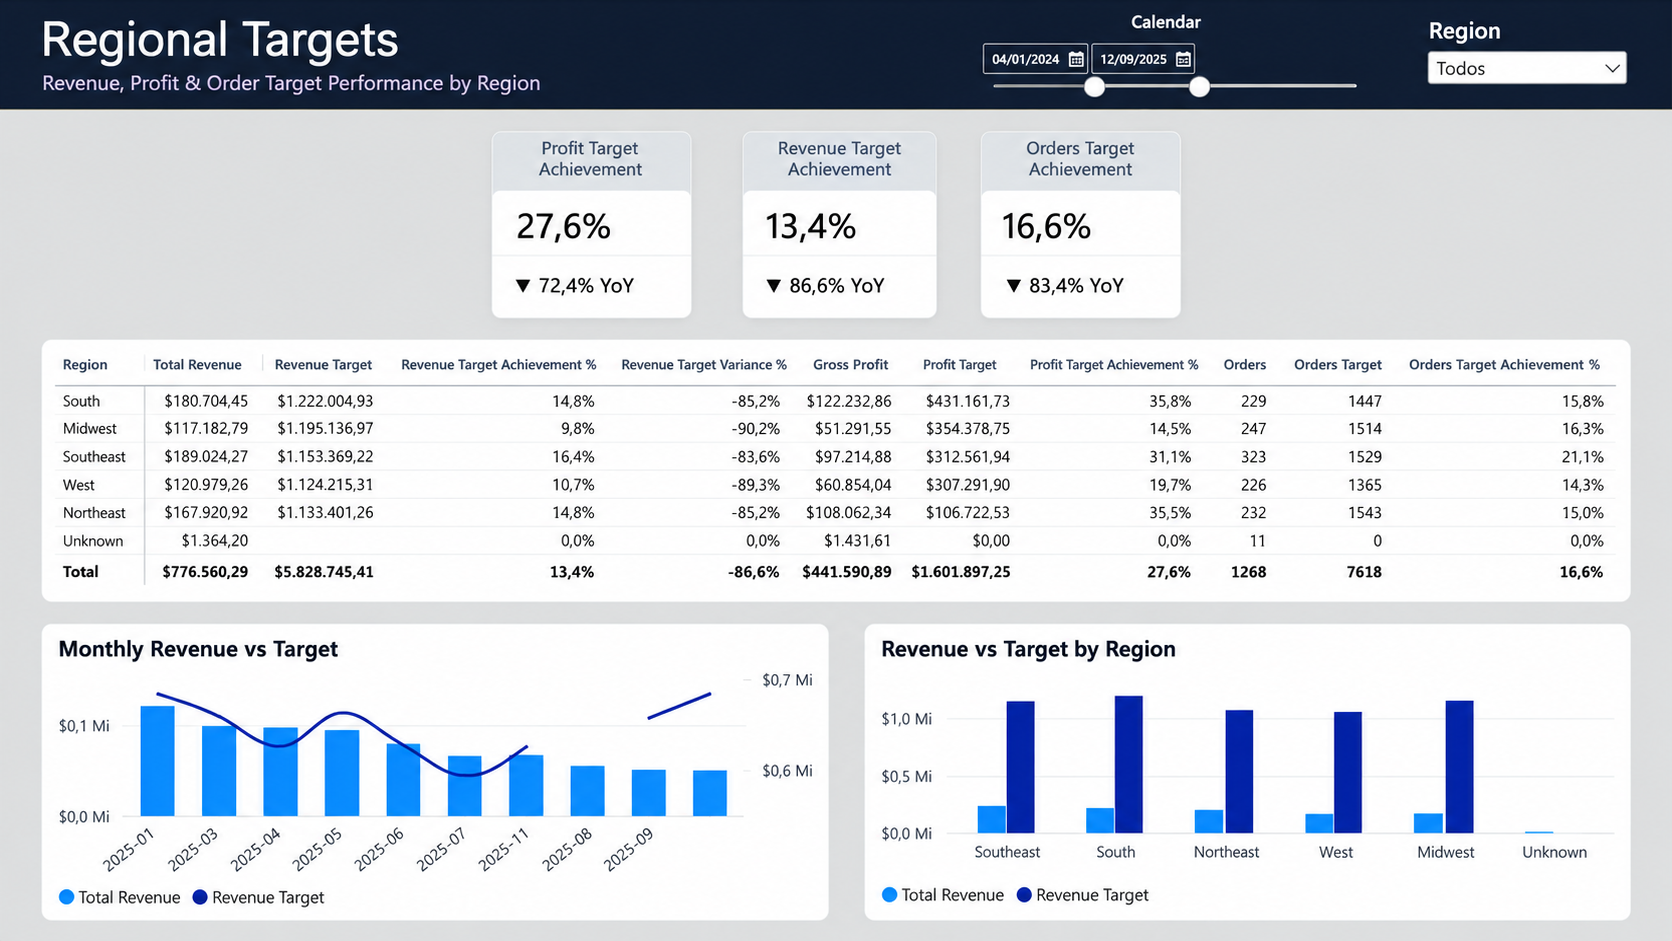

Layout of this report page (visuals, bound fields, positions):
{"tool":"powerbi","page":{"name":"Regional Targets","canvas":[1920,1080],"ordinal":5},"visuals":[{"type":"clusteredColumnChart","title":"Revenue vs Target by Region","fields":{"Category":["DimRegion.Region"],"Y":["_Measures.Total Revenue","_Measures.Revenue Target"]},"box":[1102.9,697.1,735.3,347.1],"z":0},{"type":"lineClusteredColumnComboChart","title":"Monthly Revenue vs Target","fields":{"Category":["DimData.Year-Month"],"Y":["_Measures.Total Revenue"],"Y2":["_Measures.Revenue Target"]},"box":[79.4,697.1,738.2,347.1],"z":1000},{"type":"pivotTable","fields":{"Rows":["DimRegion.Region"],"Values":["_Measures.Total Revenue","_Measures.Revenue Target","_Measures.Revenue Target Achievement %","_Measures.Revenue Target Variance %","_Measures.Gross Profit","_Measures.Profit Target","_Measures.Profit Target Achievement %","_Measures.Orders","_Measures.Orders Target","_Measures.Orders Target Achievement %"]},"box":[241.2,388.2,1470.6,261.8],"z":2000},{"type":"actionButton","box":[0,0,100,40],"z":3000},{"type":"shape","box":[0,0,1920,128],"z":4000},{"type":"textbox","box":[49,16.3,544.9,63.3],"z":5000},{"type":"textbox","box":[49.3,80.6,528.4,40.3],"z":6000},{"type":"slicer","fields":{"Values":["DimRegion.Region"]},"box":[1647.1,20.6,193,83],"z":7000},{"type":"slicer","title":"Calendar","fields":{"Values":["DimData.Date"]},"box":[1179.4,5.9,407.7,115.4],"z":8000},{"type":"cardVisual","title":"Revenue Target Achievement","fields":{"Data":["_Measures.Revenue Target Achievement %"]},"box":[889.6,161.8,184,192],"z":11000},{"type":"cardVisual","title":"Profit Target Achievement","fields":{"Data":["_Measures.Profit Target Achievement %"]},"box":[607.2,161.8,184,192],"z":12000},{"type":"cardVisual","title":"Orders Target Achievement","fields":{"Data":["_Measures.Orders Target Achievement %"]},"box":[1171.9,161.8,184,192],"z":13000}]}

Visuals, with their boxes in screenshot pixels (x1, y1, x2, y2), scaled from the page's 1920x1080 canvas onto the 1672x941 screenshot:
"Revenue vs Target by Region" clusteredColumnChart: locate(960, 607, 1601, 910)
"Monthly Revenue vs Target" lineClusteredColumnComboChart: locate(69, 607, 712, 910)
pivotTable - DimRegion.Region x _Measures.Total Revenue: locate(210, 338, 1491, 566)
actionButton: locate(0, 0, 87, 35)
shape: locate(0, 0, 1671, 112)
textbox: locate(43, 14, 517, 69)
textbox: locate(43, 70, 503, 105)
slicer - DimRegion.Region: locate(1434, 18, 1602, 90)
"Calendar" slicer: locate(1027, 5, 1382, 106)
"Revenue Target Achievement" cardVisual: locate(775, 141, 935, 308)
"Profit Target Achievement" cardVisual: locate(529, 141, 689, 308)
"Orders Target Achievement" cardVisual: locate(1021, 141, 1181, 308)
